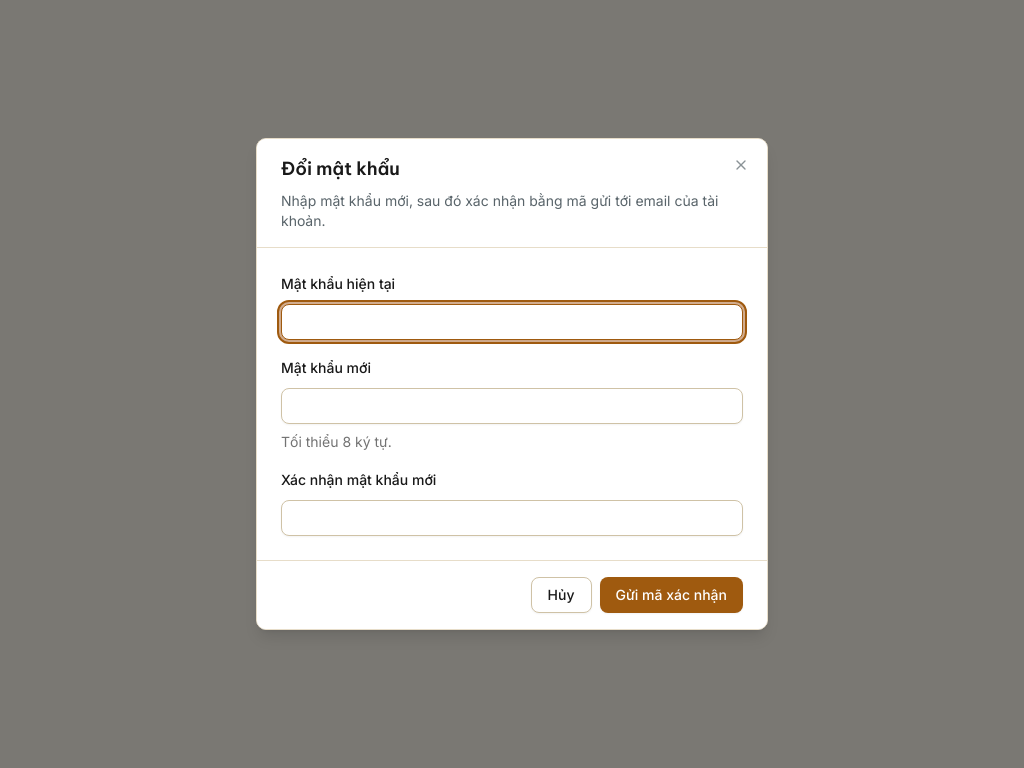
Test: ChangePasswordDialog › bỏ trống thì báo lỗi bắt buộc và KHÔNG gọi API
What coordinates should you click on to do the following:
click the button "Gửi mã xác nhận"
I would click on:
 (671, 595)
Its box is [600,577,743,613].
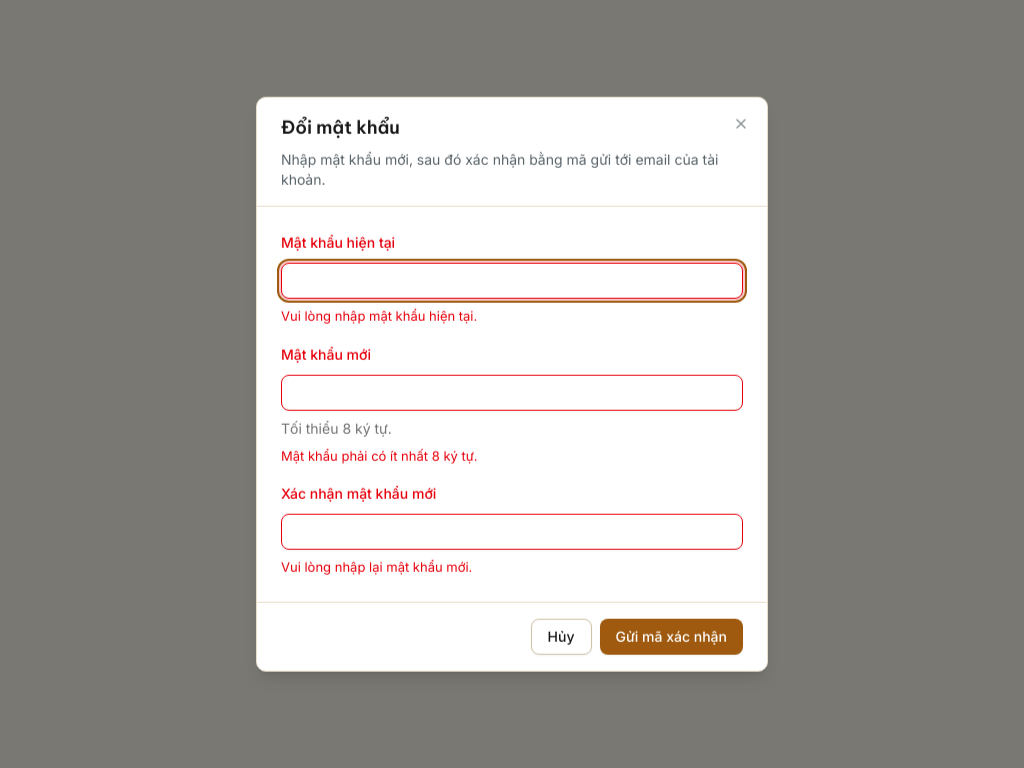
Expected: the text "Vui lòng nhập mật khẩu hiện tại." is shown, [281,308,477,324]
